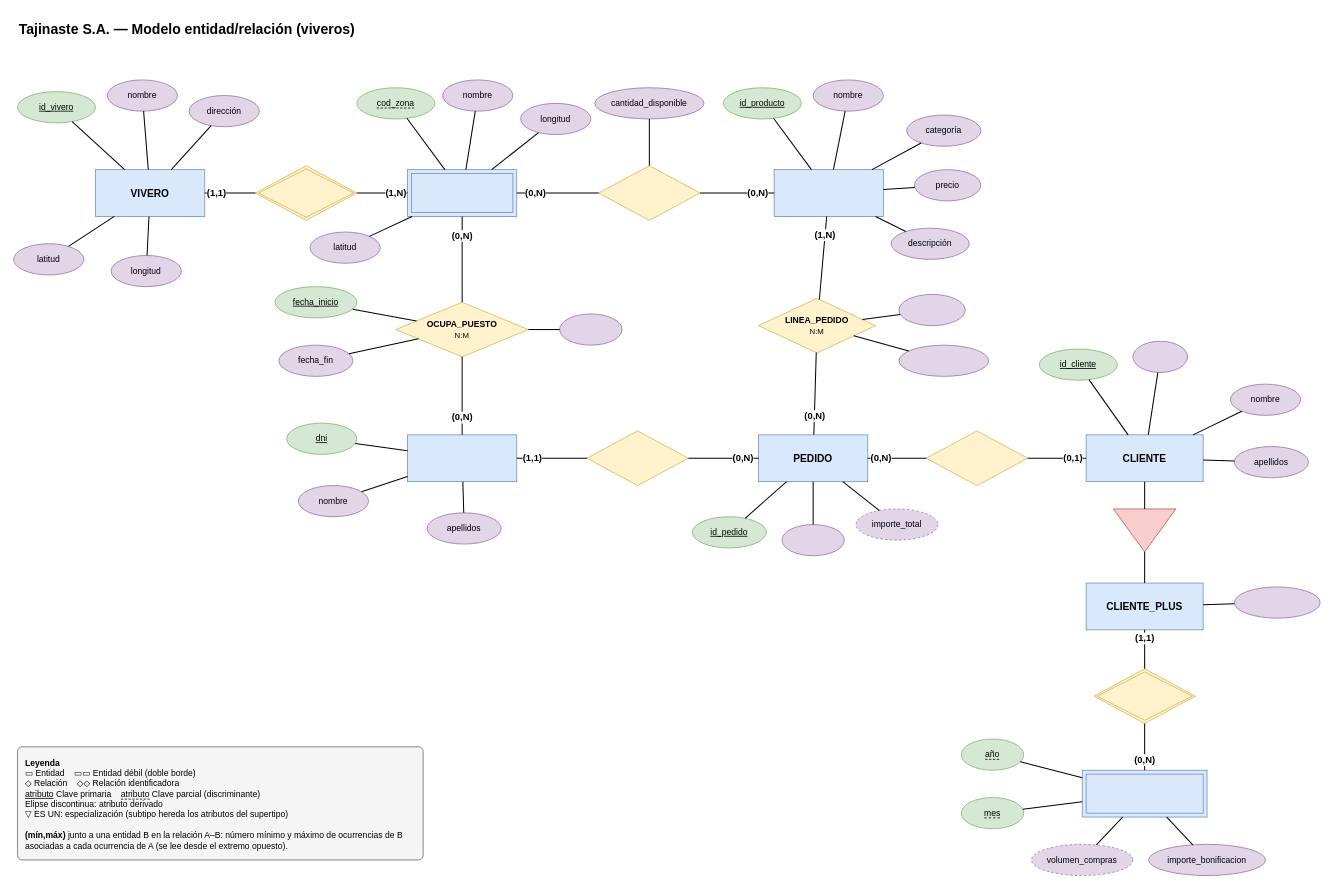
Image size: 1334x889. Some labels were removed from this diagram. The box of each missing label's shape, as (x1, y1, x2, y2) in pixels:
BONIFICACION: (1081, 769, 1207, 817)
cantidad: (898, 294, 965, 326)
EMPLEADO: (407, 434, 517, 482)
ES UN (parcial): (1113, 508, 1176, 552)
fecha: (781, 524, 844, 556)
fecha_ingreso: (1234, 586, 1320, 618)
GESTIONA 1:N: (586, 430, 688, 486)
nif: (1132, 340, 1188, 372)
precio_unitario: (898, 344, 989, 376)
PRODUCTO: (773, 169, 883, 216)
REALIZA 1:N: (925, 430, 1028, 486)
RECIBE 1:N: (1093, 668, 1195, 723)
STOCK N:M: (598, 165, 700, 220)
tarea: (559, 313, 622, 345)
TIENE 1:N: (255, 165, 357, 220)
ZONA: (407, 169, 517, 216)
